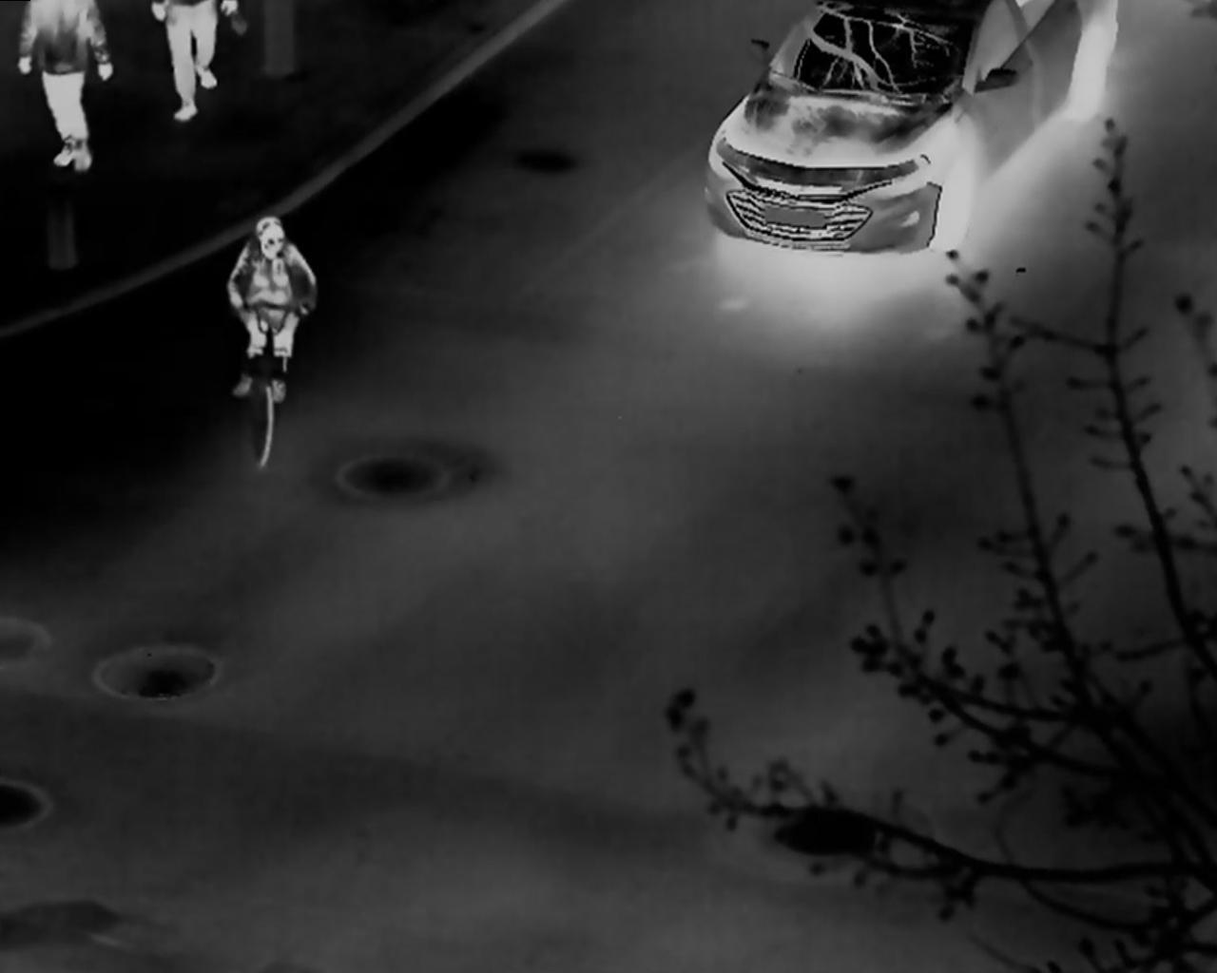person: (226, 215, 317, 403)
